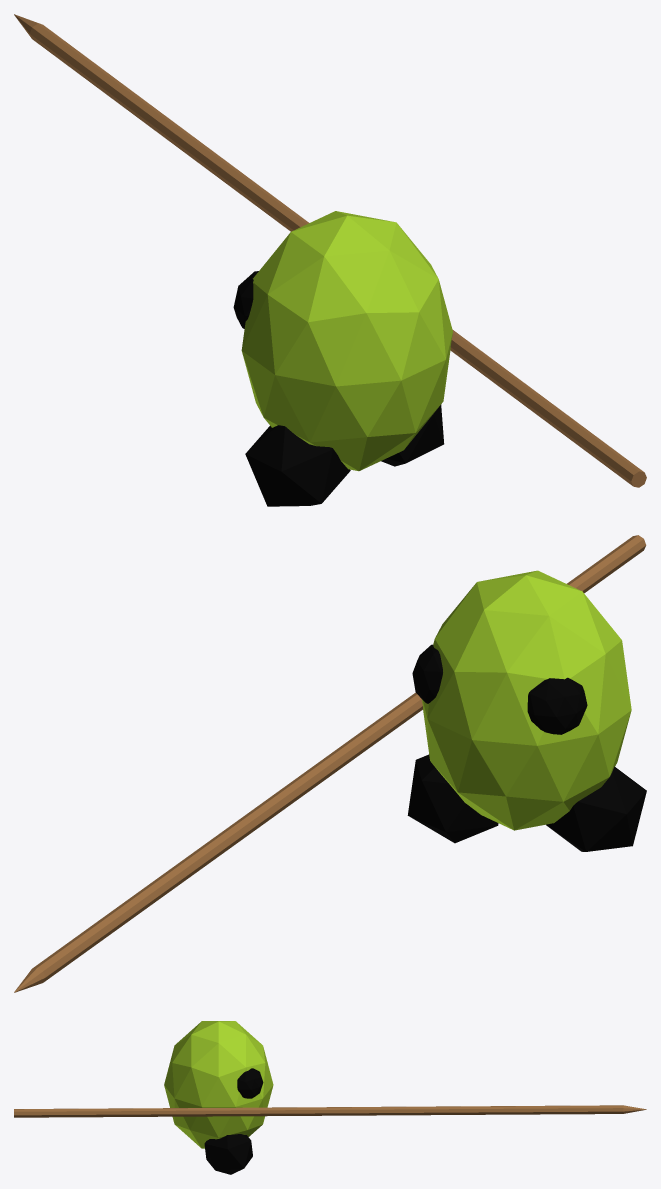
File: walk.f0019.glb
The picture shows the model from 3 angles, top to bottom: view 1: azimuth 30°, elevation 25°; view 2: azimuth 150°, elevation 25°; view 3: azimuth 270°, elevation 25°; orthographic projection. The views are drawn at different scales.
Visible parts, largest first — view 1: Body.001; view 2: Body.001; view 3: Body.001.
Part boxes in pixels (x1,y1,x2,y2): Body.001: (14,14,646,506); Body.001: (14,535,646,992); Body.001: (14,1021,646,1174).
Size of the model in its own units: 2.17 by 2.8 by 11.56.
1 material, 1 textured.
